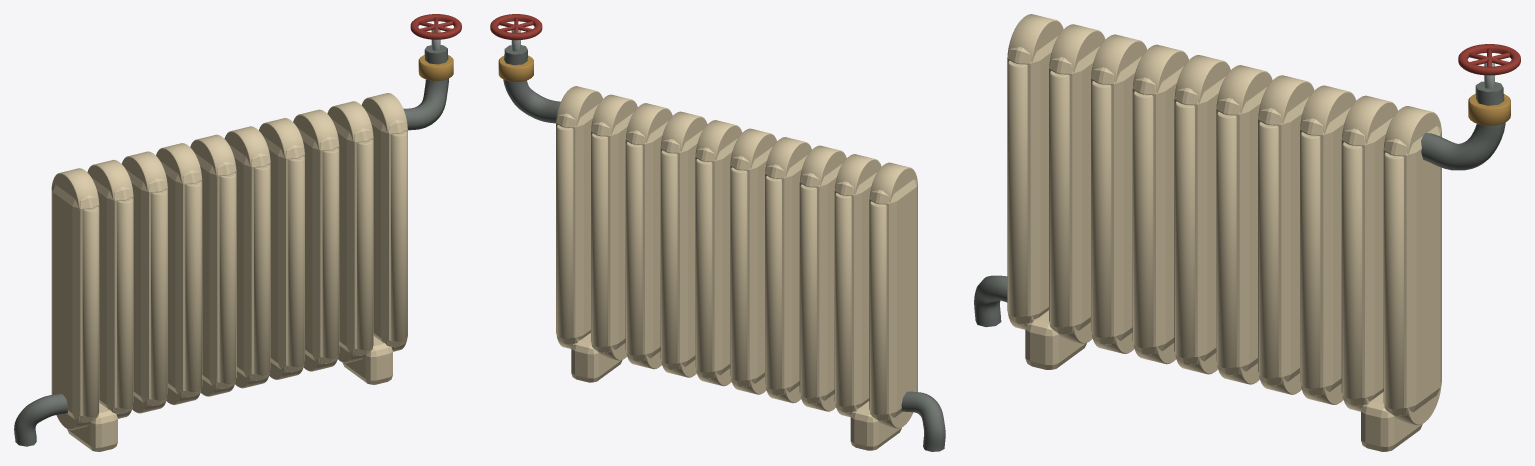
The model's file is CastIronRadiator.fbx.
3 renders of one model, left to right at view 1: azimuth 30°, elevation 25°; view 2: azimuth 150°, elevation 25°; view 3: azimuth 330°, elevation 25°, orthographic. The views are drawn at different scales.
Parts seen in each view (by area): view 1: Radiator section, Radiator section.006, Radiator section.005, Radiator section.003, Radiator section.008, Radiator section.002, Radiator section.004, Radiator section.007, Radiator section.001, Radiator section.009, Cast rib.004, Cast rib.010 (+24 smaller); view 2: Radiator section, Radiator section.002, Radiator section.006, Radiator section.007, Radiator section.005, Radiator section.001, Radiator section.004, Radiator section.008, Radiator section.003, Radiator section.009, Cast rib.009, Cast rib.019 (+24 smaller); view 3: Radiator section.009, Radiator section.008, Radiator section.005, Radiator section.006, Radiator section.001, Radiator section.004, Radiator section.003, Radiator section.002, Radiator section.007, Radiator section, Cast rib.002, Cast rib.012 (+25 smaller).
Boxes of the visible parts, x1,y1,x2,y2 form: Radiator section: (51,184,99,422); Radiator section.006: (263,136,304,372); Radiator section.005: (228,144,270,380); Radiator section.003: (160,161,202,397); Radiator section.008: (331,119,373,355); Radiator section.002: (126,169,167,405); Radiator section.004: (194,152,236,388); Radiator section.007: (297,127,339,363); Radiator section.001: (91,177,133,413); Radiator section.009: (366,111,407,347); Cast rib.004: (151,189,167,400); Cast rib.010: (254,164,270,375); Radiator section: (869,179,917,420); Radiator section.002: (799,163,842,403); Radiator section.006: (660,130,702,369); Radiator section.007: (625,121,668,361); Radiator section.005: (695,138,737,378); Radiator section.001: (834,172,877,412); Radiator section.004: (730,146,772,386); Radiator section.008: (591,112,633,352); Radiator section.003: (765,155,807,395); Radiator section.009: (556,104,598,344); Cast rib.009: (730,167,747,381); Cast rib.019: (556,125,573,338); Radiator section.009: (1383,126,1441,415); Radiator section.008: (1341,117,1392,405); Radiator section.005: (1216,86,1267,375); Radiator section.006: (1258,96,1309,385); Radiator section.001: (1049,46,1100,334); Radiator section.004: (1174,76,1225,364); Radiator section.003: (1132,66,1183,354); Radiator section.002: (1091,56,1141,344); Radiator section.007: (1300,107,1351,395); Radiator section: (1007,35,1058,324); Cast rib.002: (1049,70,1069,327); Cast rib.012: (1258,121,1278,378).
Size of the model in its own units: 1.14 by 0.8055 by 0.17.
